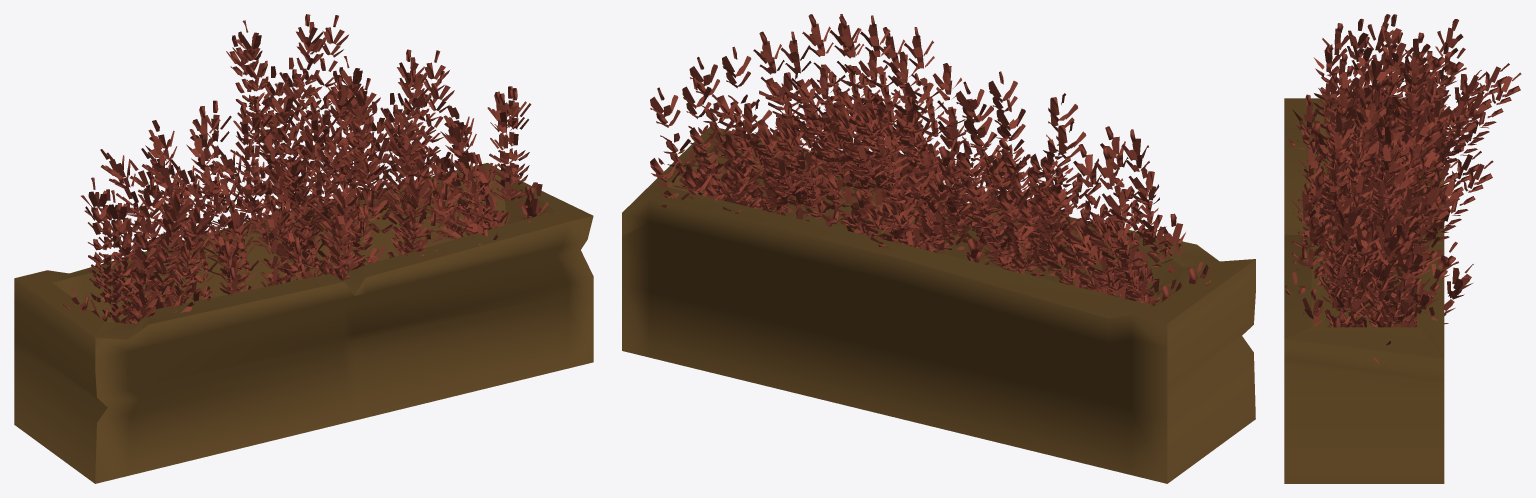
File: DoniceZKwiatami.fbx
3 views of the same model, side by side, from view 1: azimuth 30°, elevation 25°; view 2: azimuth 150°, elevation 25°; view 3: azimuth 270°, elevation 25° (orthographic). The views are drawn at different scales.
Visible parts, largest first — view 1: Donica, Kwiatki2.001; view 2: Donica, Kwiatki2.001; view 3: Kwiatki2.001, Donica.
Boxes of the visible parts, bbox=[...] form: Donica: bbox=[14, 163, 593, 483]; Kwiatki2.001: bbox=[63, 14, 548, 324]; Donica: bbox=[622, 126, 1255, 483]; Kwiatki2.001: bbox=[650, 14, 1211, 305]; Kwiatki2.001: bbox=[1284, 14, 1521, 369]; Donica: bbox=[1284, 98, 1444, 483].
Bounding box in the file's own units: 354 × 236 × 146.
